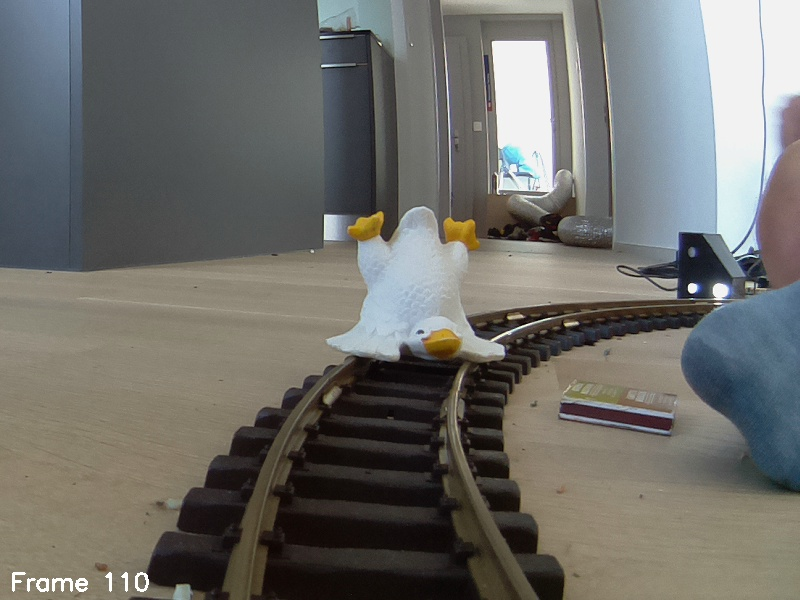Ente: (319, 200, 510, 371)
Halt: (674, 230, 743, 303)
